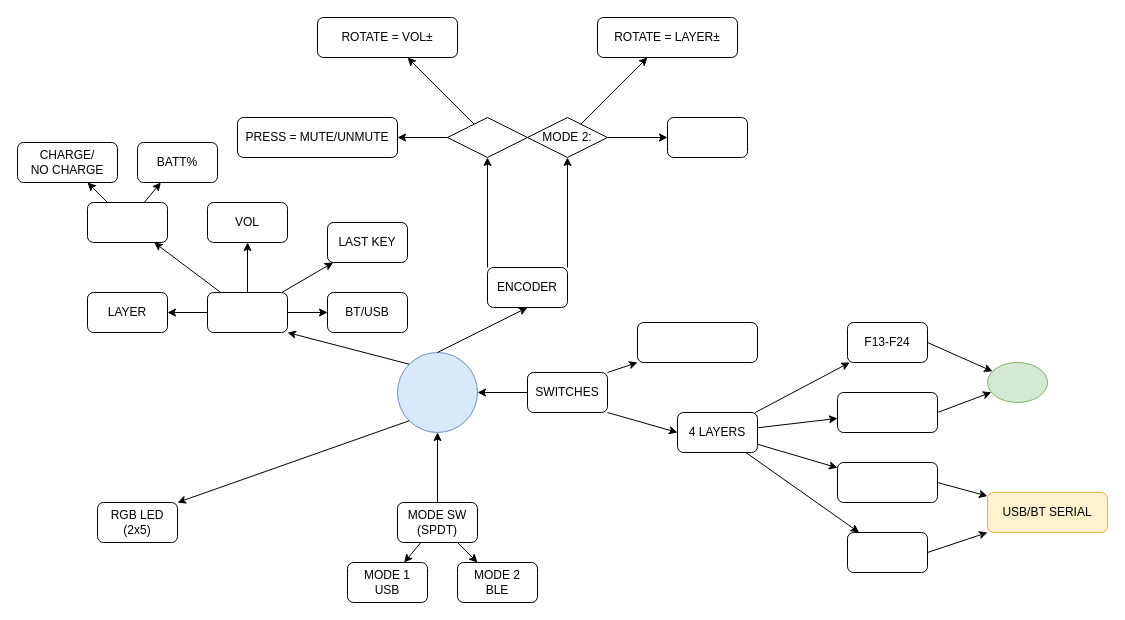
The diagram is 1125 pixels wide and 620 high, and some of its shapes have lost their labels. The shapes that lost their labels are listed below. From the top down, each one's centre as x and y in pixels, then its label:
At (x=487, y=137): "MODE 1:".
At (x=707, y=137): "PRESS = ?".
At (x=127, y=222): "BATTERY".
At (x=247, y=312): "OLED".
At (x=697, y=342): "3 COL 4 ROW (COL 2 ROW)".
At (x=437, y=392): "ESP".
At (x=1017, y=382): "HID".
At (x=887, y=412): "SHORTCUTS".
At (x=887, y=482): "RUN SCRIPT".
At (x=887, y=552): "OPEN APP".
